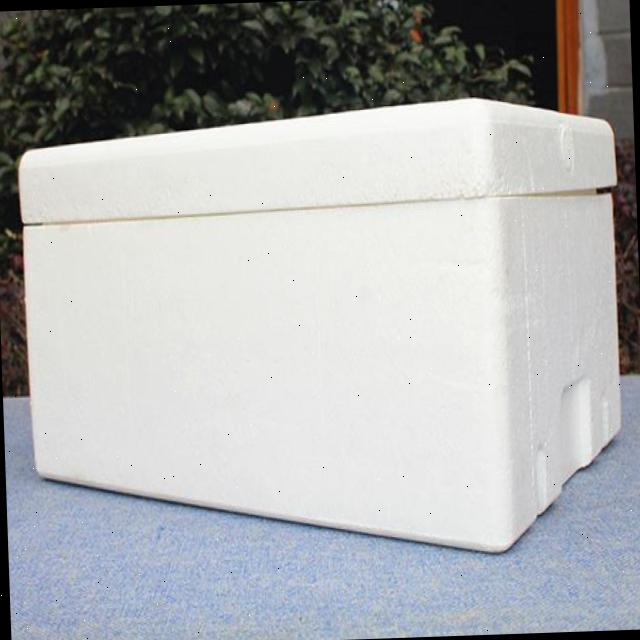styrofoam: (14, 89, 630, 571)
